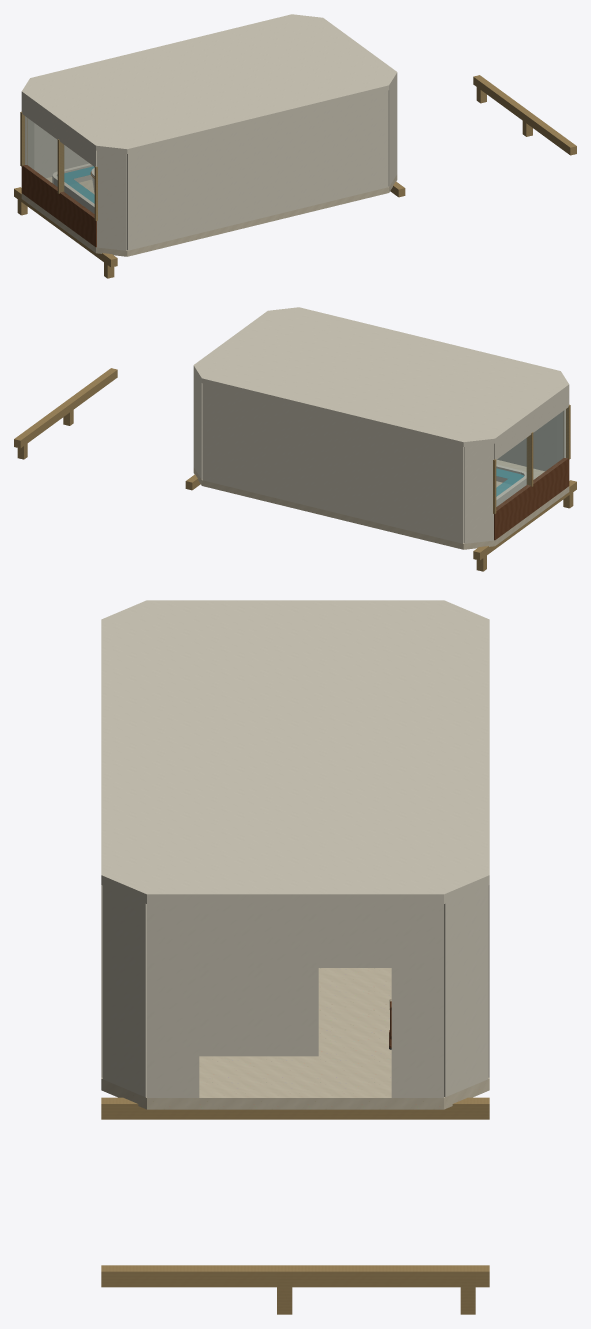
File: D04_STARBOARD_AFT_HOME_951_r001.glb
3 renders of one model, top to bottom at view 1: azimuth 30°, elevation 25°; view 2: azimuth 150°, elevation 25°; view 3: azimuth 270°, elevation 25°, orthographic. The views are drawn at different scales.
Visible parts, largest first — view 1: SA951_D04H940_Roof, SA951_D04H940_Shell_7, SA951_D04H940_GardenGlass, SA951_D04H940_Shell_6, SA951_D04H940_Floor, SA951_D04H940_GardenDado, SA951_D04H940_ClearSupportLong, SA951_D04H940_Shell_3, SA951_D04H940_GardenHead, SA951_D04H940_Shell_0, SA951_D04H940_AquaticBasinRim, SA951_D04H940_Long_-29.35 (+3 smaller); view 2: SA951_D04H940_Roof, SA951_D04H940_Shell_3, SA951_D04H940_GardenGlass, SA951_D04H940_Shell_4, SA951_D04H940_Floor, SA951_D04H940_GardenDado, SA951_D04H940_Shell_7, SA951_D04H940_ClearSupportLong, SA951_D04H940_GardenHead, SA951_D04H940_Shell_2, SA951_D04H940_Long_-29.35, SA951_D04H940_AquaticBasinRim (+3 smaller); view 3: SA951_D04H940_Roof, SA951_D04H940_Floor, SA951_D04H940_EntryHeader, SA951_D04H940_BathDogleg, SA951_D04H940_EntryWall_0, SA951_D04H940_EntryWall_1, SA951_D04H940_Shell_0, SA951_D04H940_Shell_2, SA951_D04H940_ClearSupportLong, SA951_D04H940_Long_-41.650000000000006.
Part boxes in pixels (<box>): SA951_D04H940_Roof: <box>21,14,397,153</box>; SA951_D04H940_Shell_7: <box>127,90,388,250</box>; SA951_D04H940_GardenGlass: <box>26,118,94,216</box>; SA951_D04H940_Shell_6: <box>97,150,126,250</box>; SA951_D04H940_Floor: <box>21,174,397,256</box>; SA951_D04H940_GardenDado: <box>21,165,96,247</box>; SA951_D04H940_ClearSupportLong: <box>473,75,576,155</box>; SA951_D04H940_Shell_3: <box>34,123,89,178</box>; SA951_D04H940_GardenHead: <box>21,96,96,166</box>; SA951_D04H940_Shell_0: <box>388,77,397,186</box>; SA951_D04H940_AquaticBasinRim: <box>52,163,94,213</box>; SA951_D04H940_Long_-29.35: <box>14,187,117,267</box>; SA951_D04H940_Roof: <box>193,307,569,446</box>; SA951_D04H940_Shell_3: <box>202,383,463,543</box>; SA951_D04H940_GardenGlass: <box>496,411,565,508</box>; SA951_D04H940_Shell_4: <box>464,443,493,543</box>; SA951_D04H940_Floor: <box>193,459,569,549</box>; SA951_D04H940_GardenDado: <box>494,458,569,540</box>; SA951_D04H940_Shell_7: <box>497,416,556,471</box>; SA951_D04H940_ClearSupportLong: <box>14,368,117,448</box>; SA951_D04H940_GardenHead: <box>494,389,569,459</box>; SA951_D04H940_Shell_2: <box>193,370,202,479</box>; SA951_D04H940_Long_-29.35: <box>473,480,576,560</box>; SA951_D04H940_AquaticBasinRim: <box>496,464,526,506</box>; SA951_D04H940_Roof: <box>101,600,489,904</box>; SA951_D04H940_Floor: <box>101,968,489,1109</box>; SA951_D04H940_EntryHeader: <box>199,904,391,967</box>; SA951_D04H940_BathDogleg: <box>199,968,318,1056</box>; SA951_D04H940_EntryWall_0: <box>147,904,199,1097</box>; SA951_D04H940_EntryWall_1: <box>391,904,443,1097</box>; SA951_D04H940_Shell_0: <box>102,885,146,1097</box>; SA951_D04H940_Shell_2: <box>444,885,488,1097</box>; SA951_D04H940_ClearSupportLong: <box>101,1265,489,1287</box>; SA951_D04H940_Long_-41.650000000000006: <box>101,1097,489,1119</box>.
Bounding box in the file's own units: 20.11 × 5.24 × 7.2.
40 materials, 21 textured.
